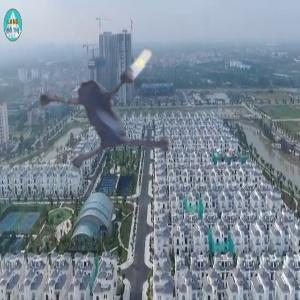drone: (22, 9, 217, 204)
